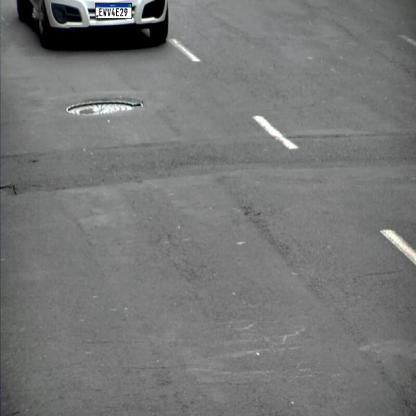PlacaM: (95, 2, 132, 18)
